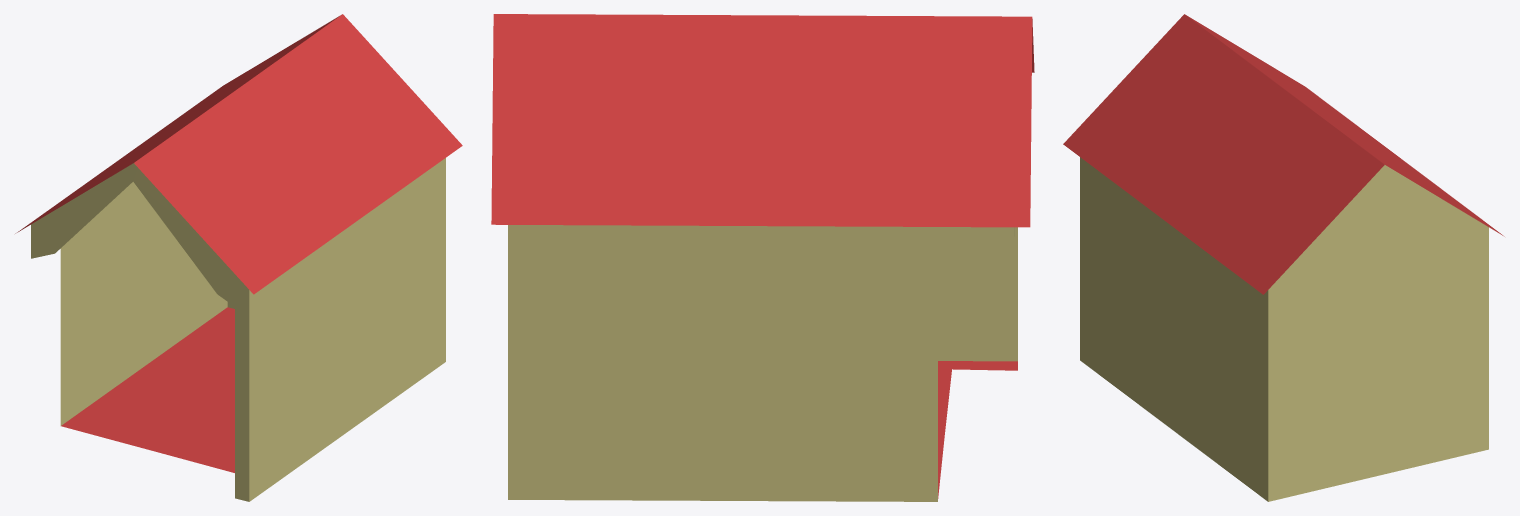
3 renders of one model, left to right at view 1: azimuth 30°, elevation 25°; view 2: azimuth 150°, elevation 25°; view 3: azimuth 270°, elevation 25°, orthographic. The views are drawn at different scales.
Bounding box in the file's own units: 19.98 × 17.95 × 14.11.
